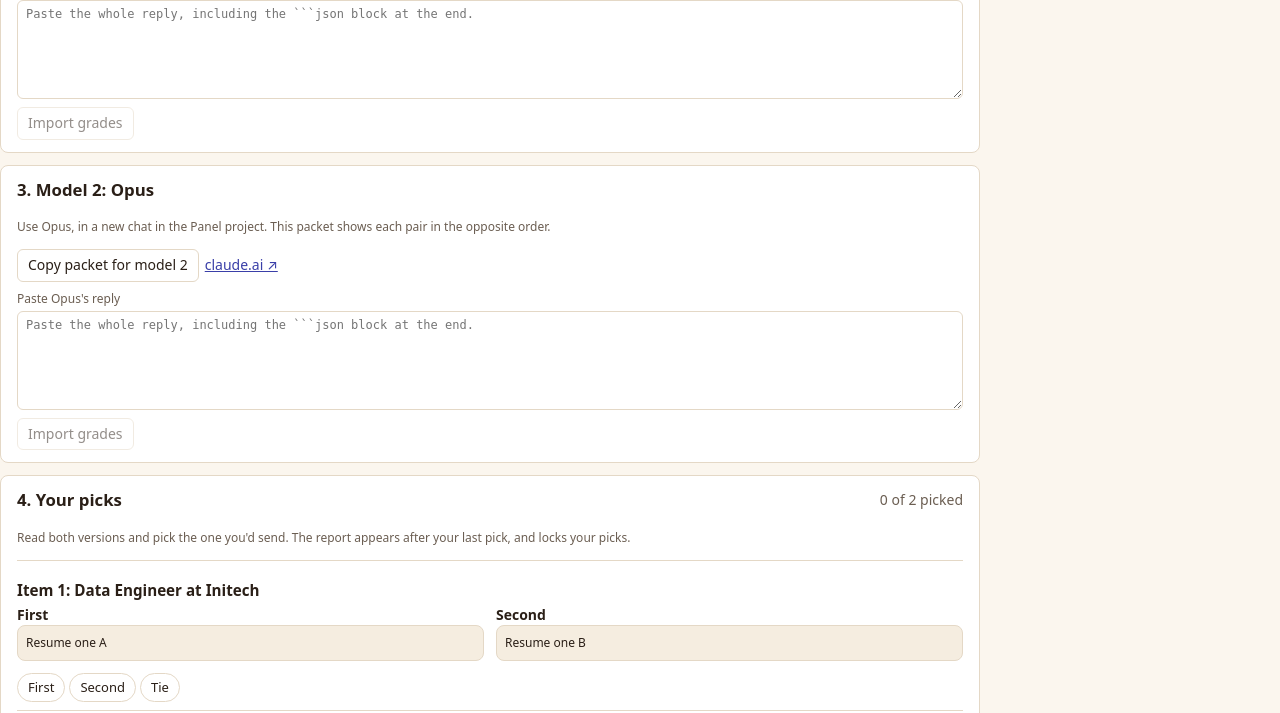
Test: PanelPage › shows import errors such as a count mismatch
(page scrolled)
Type "x" into the text box labelled "Paste Opus's reply". click: (490, 360)
box: top-left (17, 311), bottom-right (963, 410)
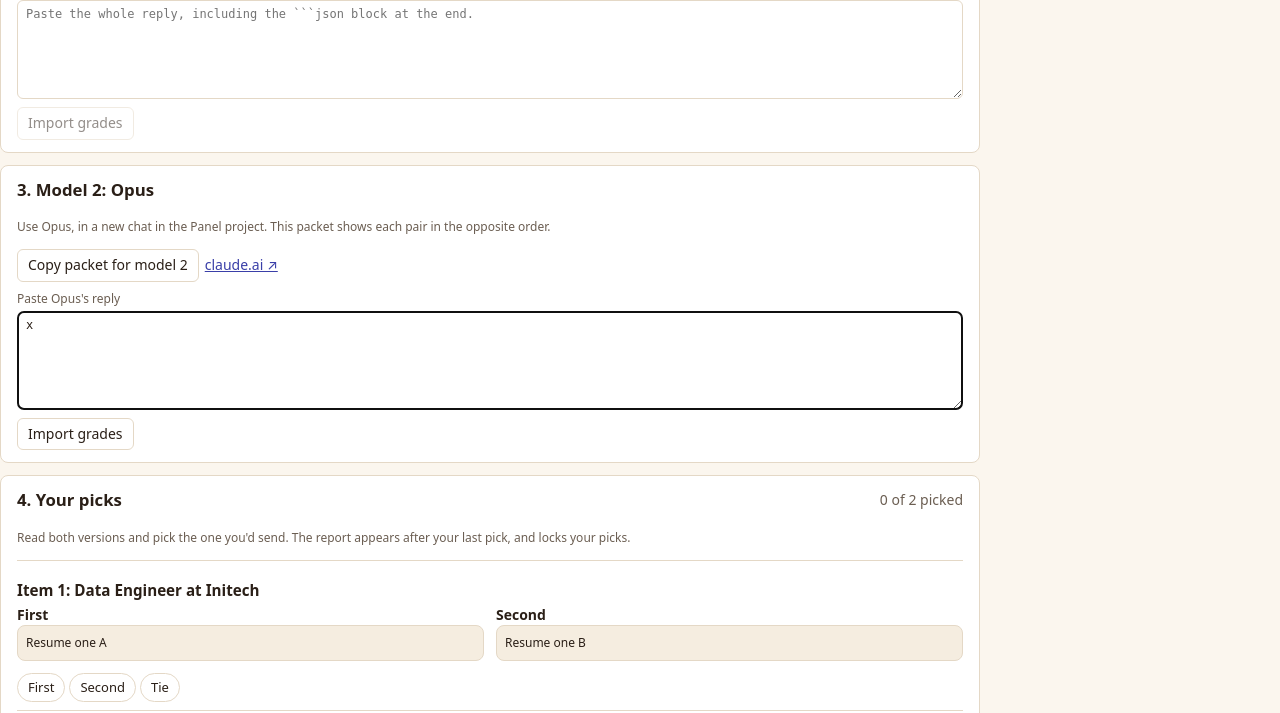
Click the 2nd button "Import grades". click: (75, 434)
box: top-left (17, 418), bottom-right (134, 450)
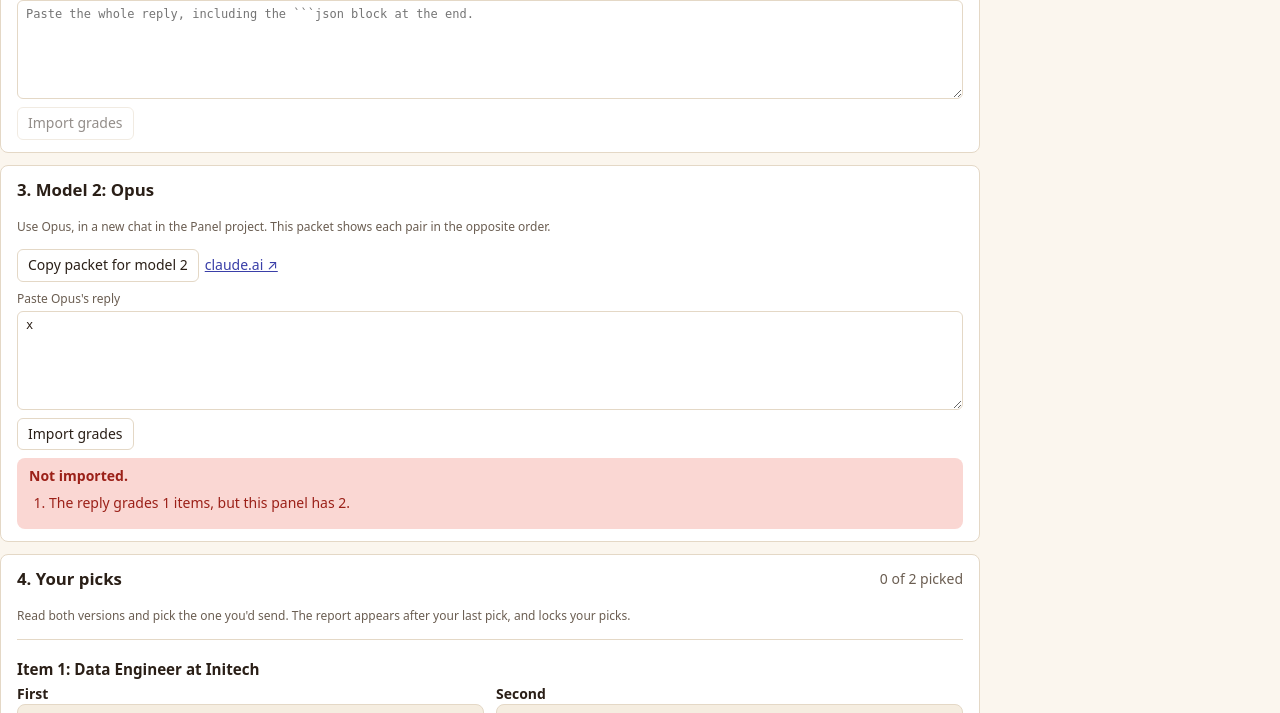
expect the message shows "grades 1 items, but this panel has 2": met, box top-left (49, 493), bottom-right (350, 512)
